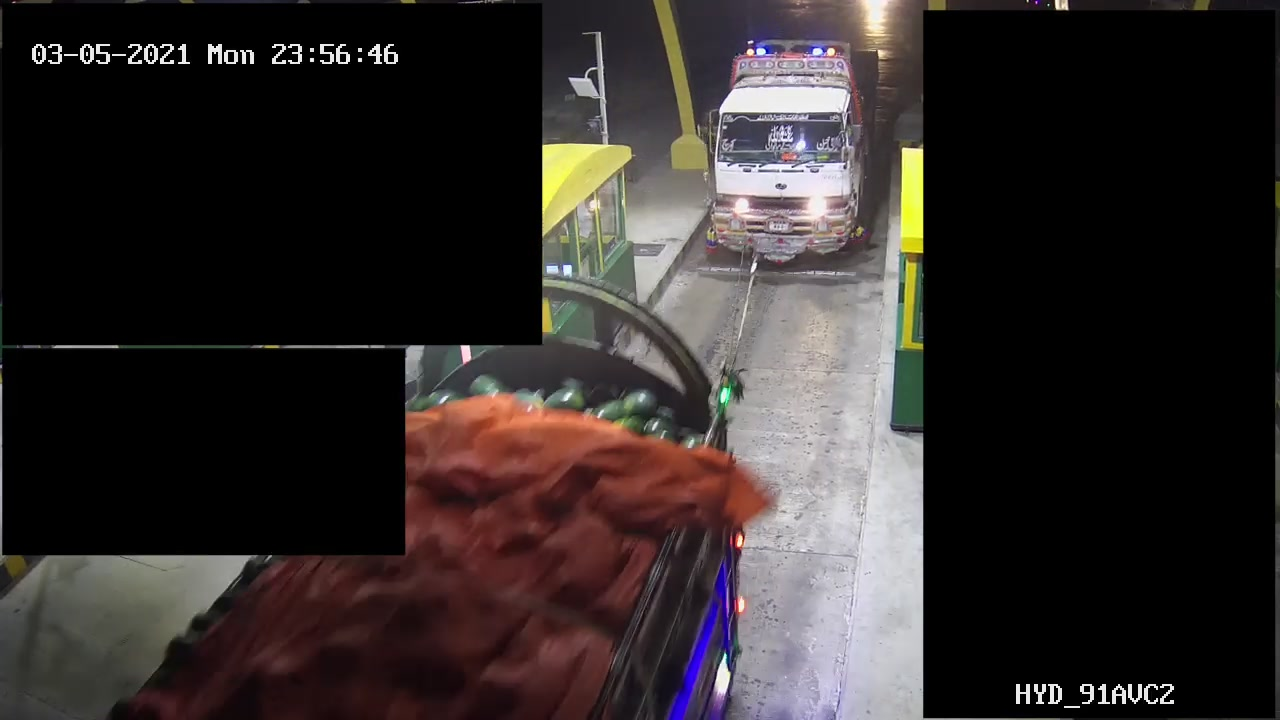F6: (704, 38, 884, 268)
